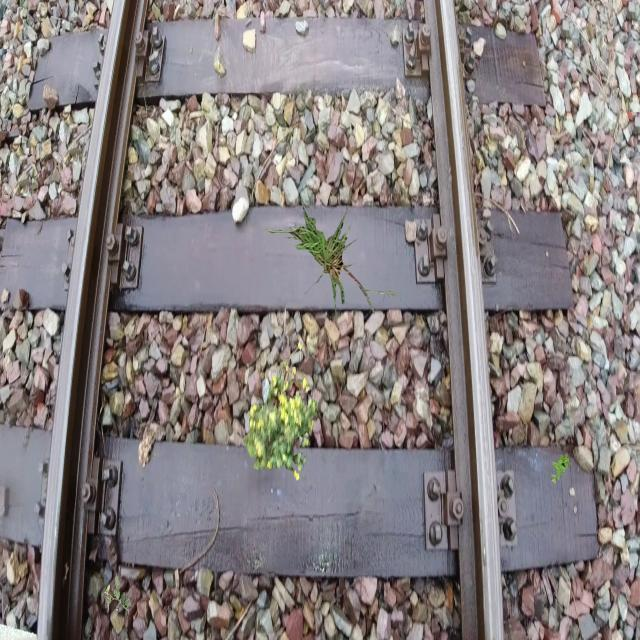Plant: (255, 206, 398, 326), (243, 342, 318, 482), (104, 575, 132, 616), (551, 452, 570, 484)
